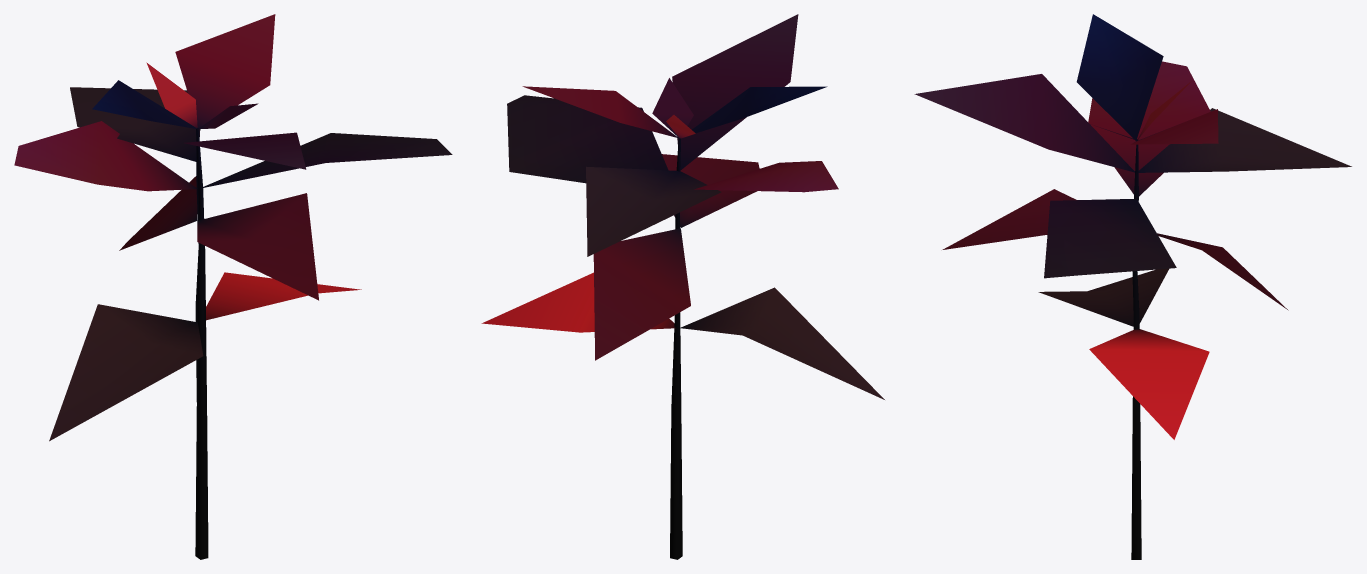
File: Nettle single sided.fbx
The picture shows the model from 3 angles, left to right: view 1: azimuth 30°, elevation 25°; view 2: azimuth 150°, elevation 25°; view 3: azimuth 270°, elevation 25°; orthographic projection. The views are drawn at different scales.
Parts seen in each view (by area): view 1: Mesh Nettle 2017; view 2: Mesh Nettle 2017; view 3: Mesh Nettle 2017.
Boxes of the visible parts, x1=… form: Mesh Nettle 2017: x1=14, y1=14, x2=452, y2=559; Mesh Nettle 2017: x1=481, y1=14, x2=884, y2=559; Mesh Nettle 2017: x1=914, y1=14, x2=1351, y2=559.
Size of the model in its own units: 83.28 by 102 by 84.2.
